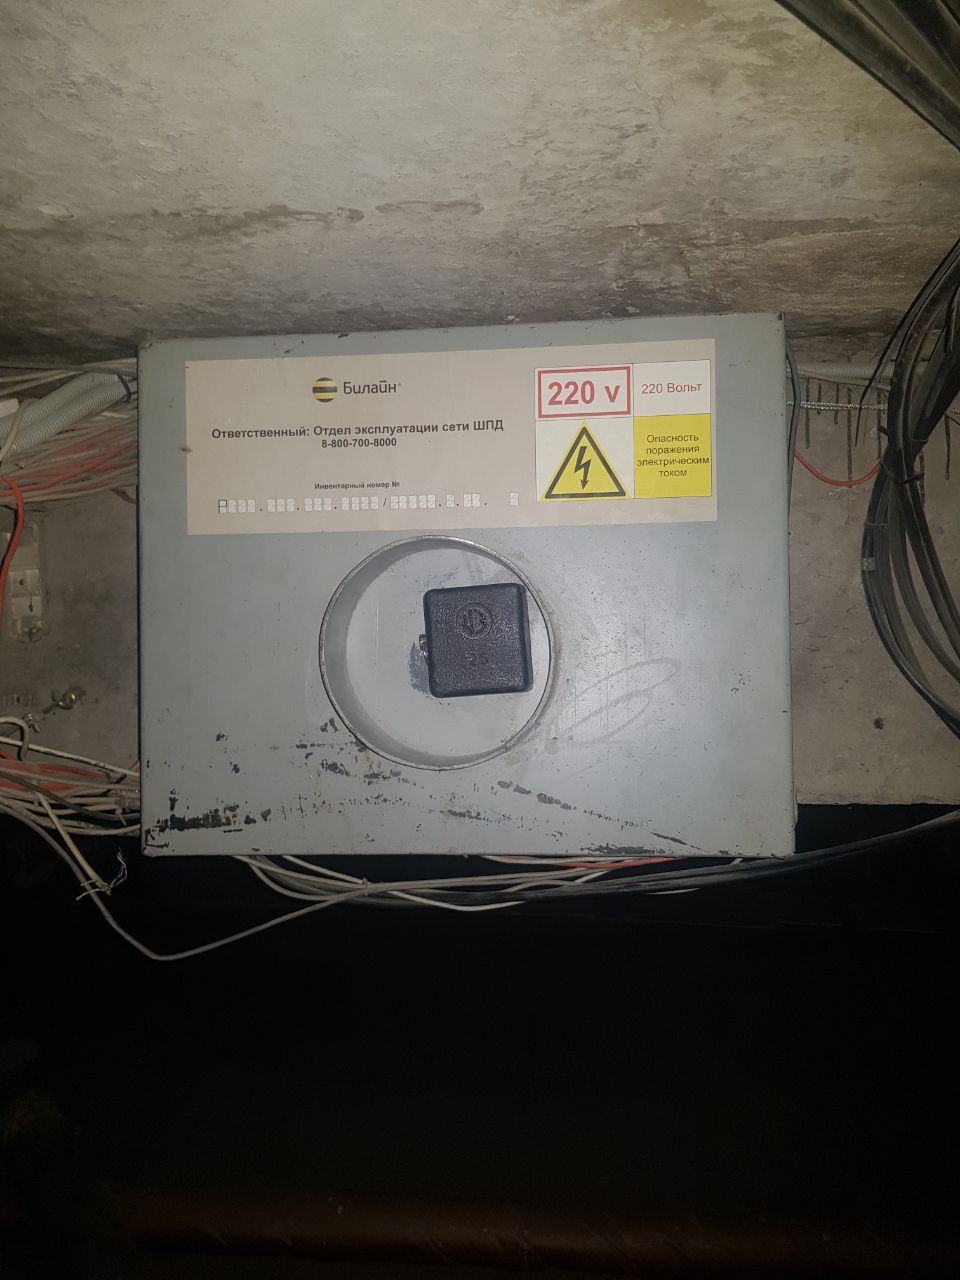shta-3: (135, 311, 798, 860)
